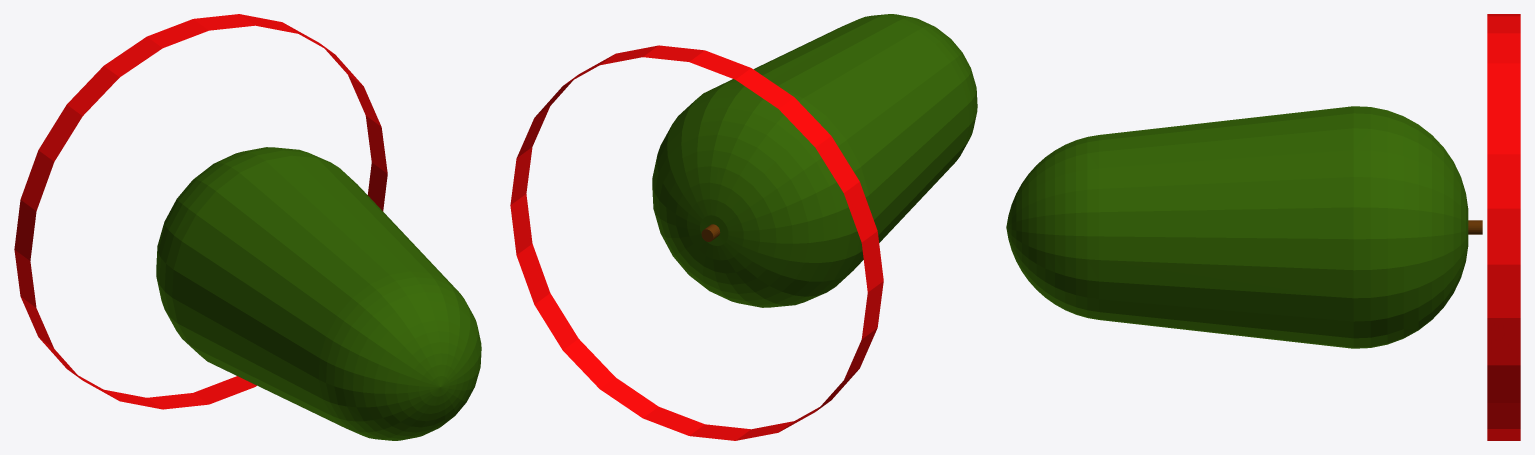
Rendered from HPSmro10m.obj.
3 renders of one model, left to right at view 1: azimuth 30°, elevation 25°; view 2: azimuth 150°, elevation 25°; view 3: azimuth 270°, elevation 25°, orthographic. The views are drawn at different scales.
Size of the model in its own units: 9 by 9 by 10.8.
